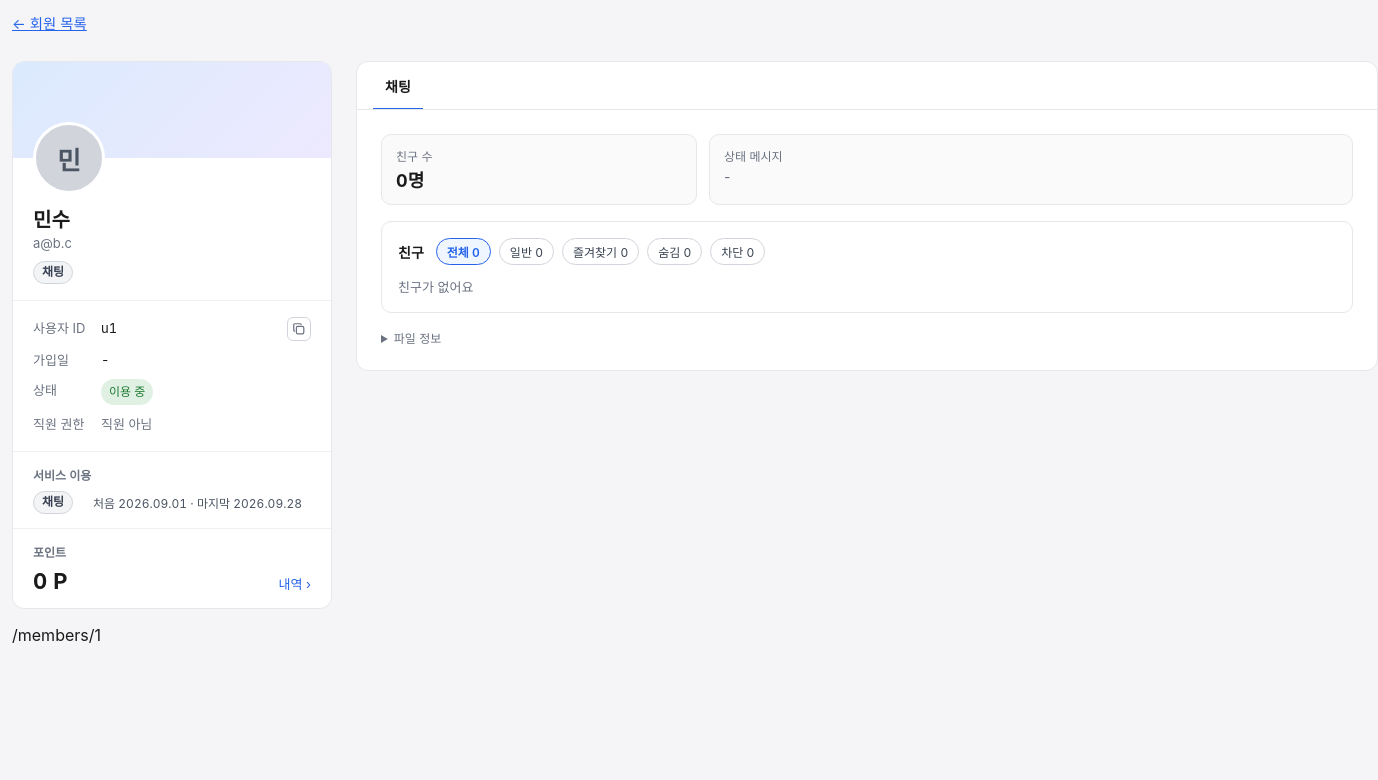
MemberDetailPage › says 복사 실패 when the clipboard is not available
Click the button named "사용자 ID 복사" at (299, 329), box [287,317,311,341]
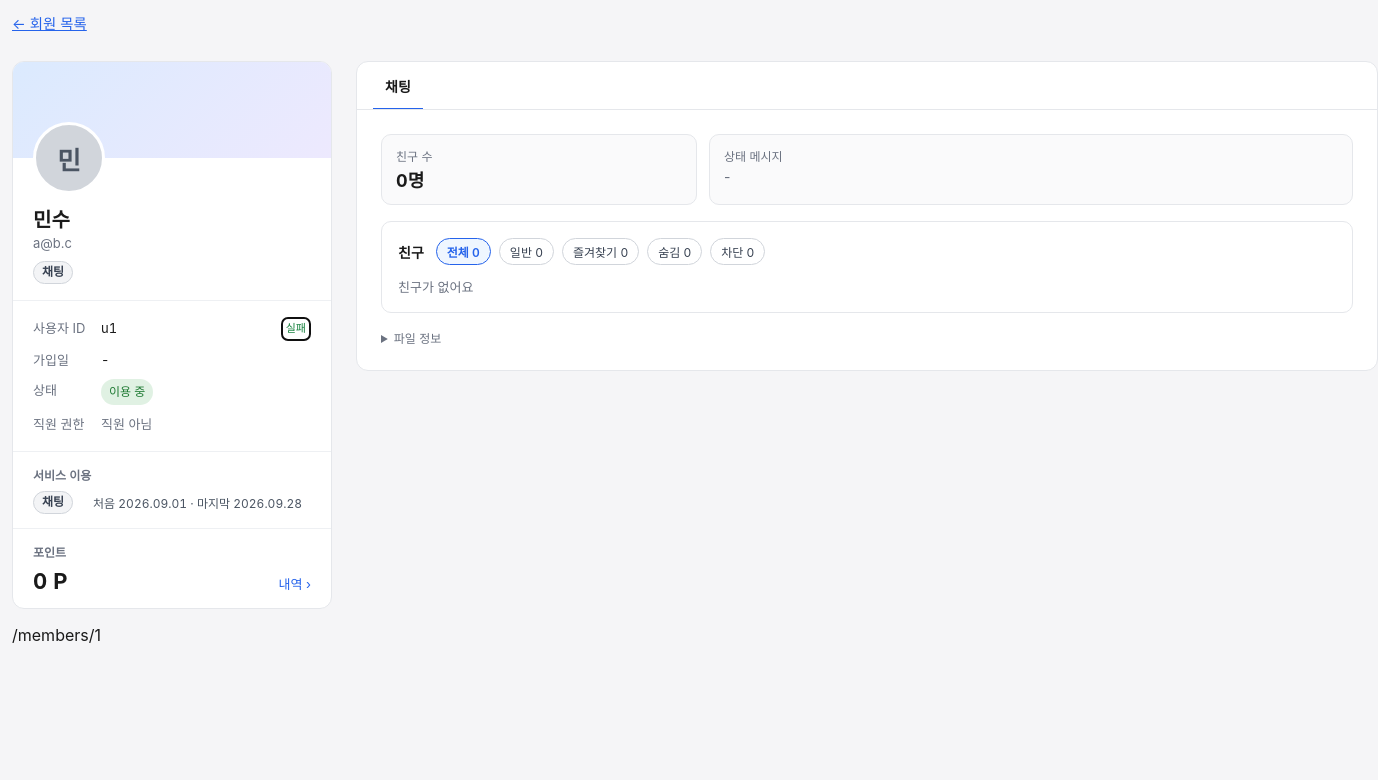
Now the button with aria-label "사용자 ID 복사" reads "실패", box [281,317,311,341]
